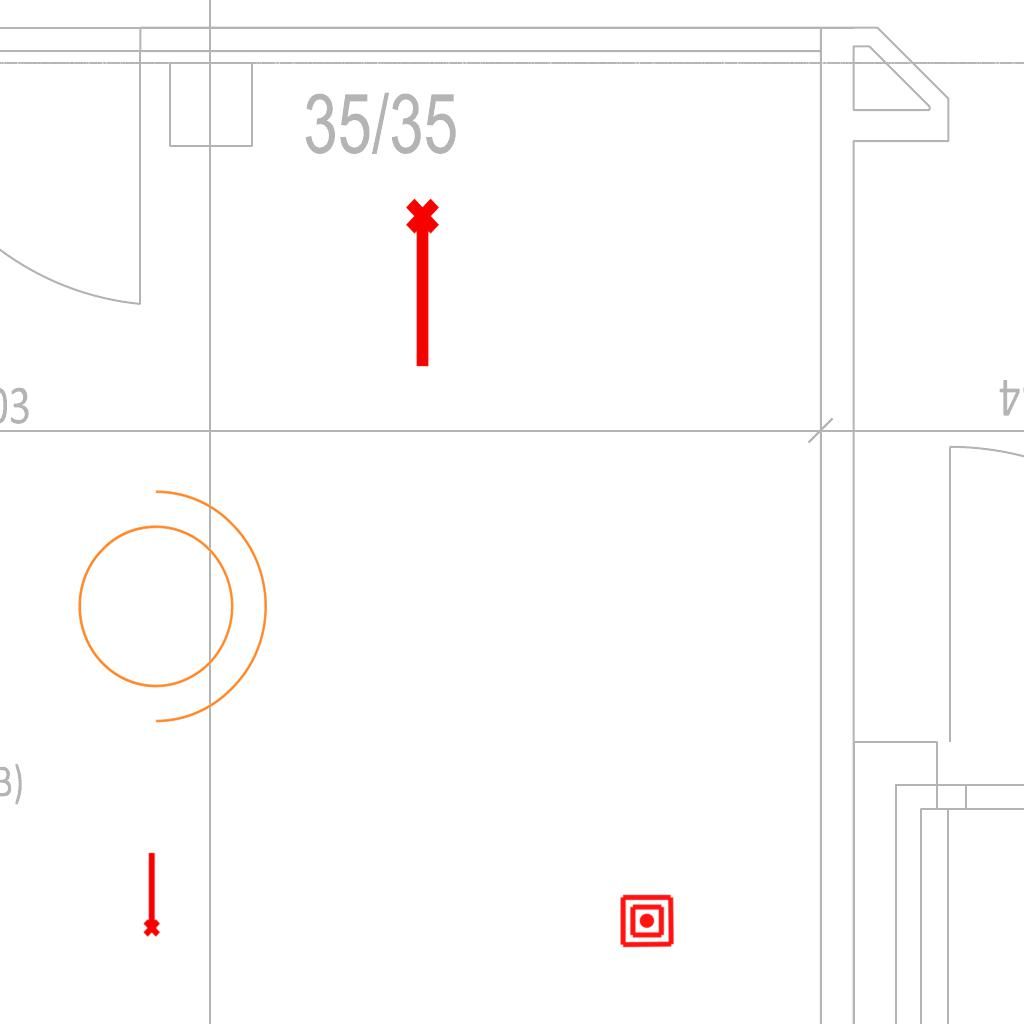ASR_Ansaugoeffnung: (402, 196, 448, 372), (139, 850, 162, 938)
NAM-Nichtautomatischer_Melder: (619, 893, 675, 949)
Scheinwerfer_fuer_Alarmbeleuchtung: (53, 468, 278, 732)
